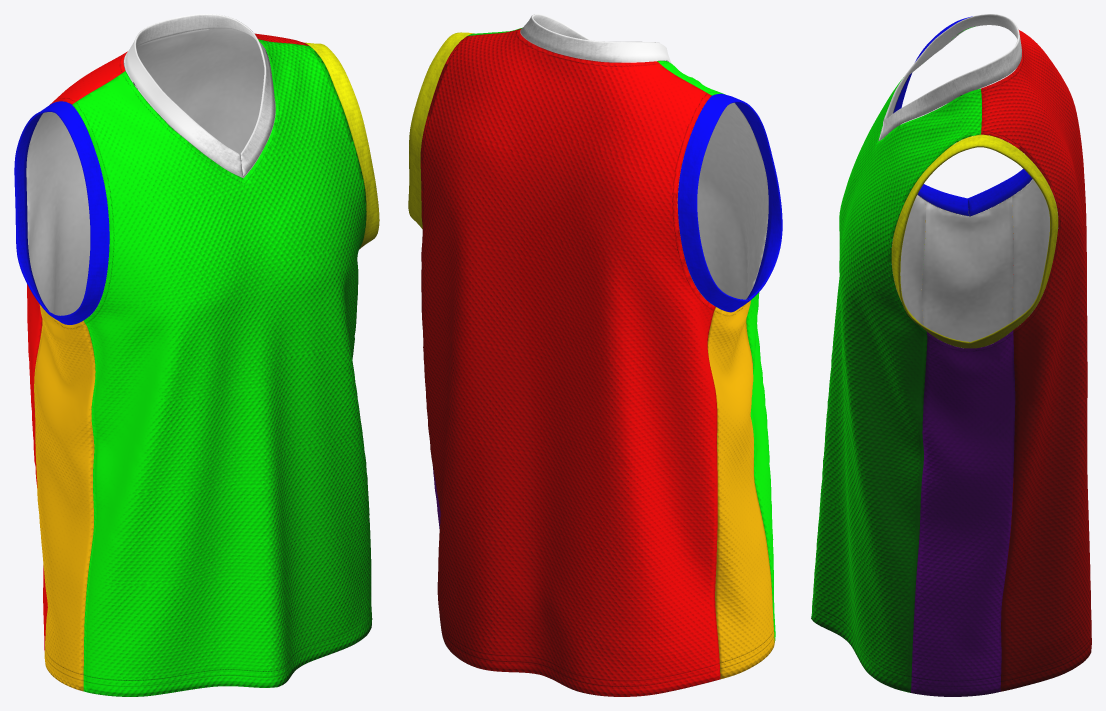
Rendered from BasketballJersey.glb.
3 views of the same model, side by side, from view 1: azimuth 30°, elevation 25°; view 2: azimuth 150°, elevation 25°; view 3: azimuth 270°, elevation 25° (orthographic). The views are drawn at different scales.
Visible parts, largest first — view 1: 05BasketballJersey; view 2: 05BasketballJersey; view 3: 05BasketballJersey.
Boxes of the visible parts, x1=… form: 05BasketballJersey: x1=14, y1=14, x2=379, y2=696; 05BasketballJersey: x1=408, y1=14, x2=782, y2=696; 05BasketballJersey: x1=811, y1=14, x2=1091, y2=696.
Size of the model in its own units: 0.3773 by 0.7137 by 0.3065.
Materials: 1 (1 with a texture image).
